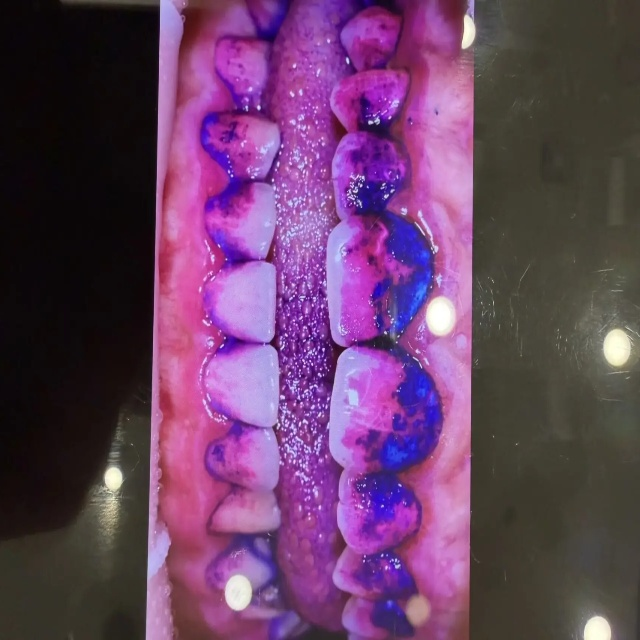clean_tooth: (601, 327, 635, 369), (103, 465, 122, 524), (584, 617, 611, 639)
plaque: (147, 0, 460, 639)
